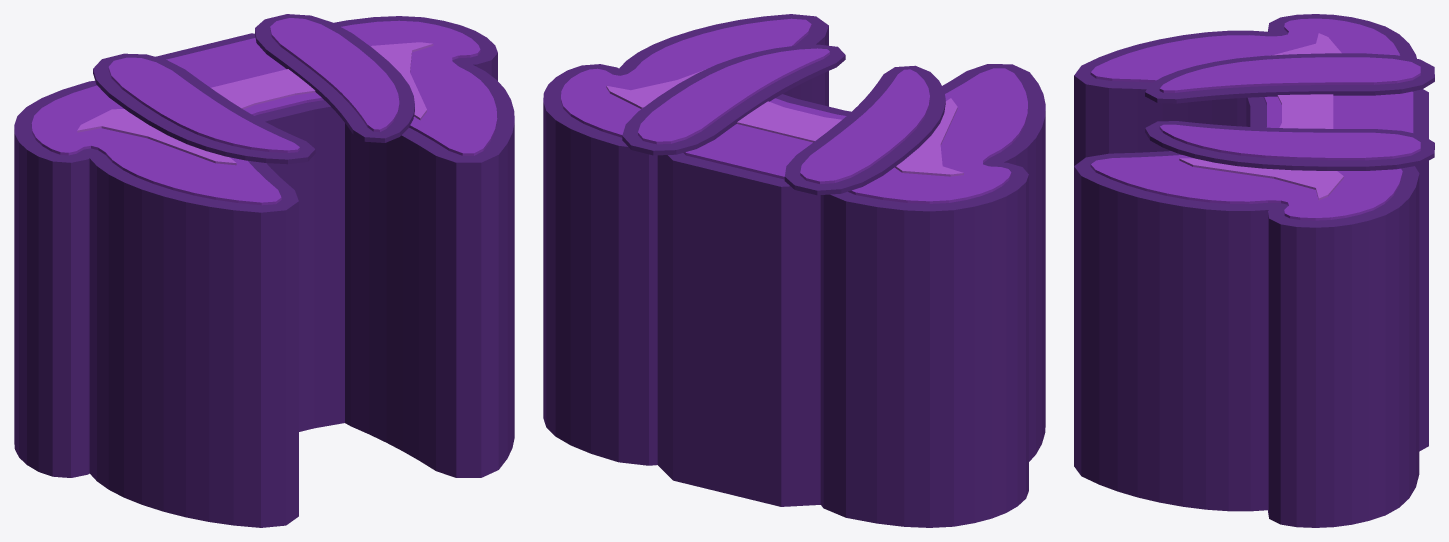
The model's file is bag_garras_ametista.fbx.
3 renders of one model, left to right at view 1: azimuth 30°, elevation 25°; view 2: azimuth 150°, elevation 25°; view 3: azimuth 270°, elevation 25°, orthographic. The views are drawn at different scales.
Visible parts, largest first — view 1: bag_garras_ametista_mochila; view 2: bag_garras_ametista_mochila; view 3: bag_garras_ametista_mochila.
Boxes of the visible parts, x1=… form: bag_garras_ametista_mochila: x1=14, y1=14, x2=514, y2=527; bag_garras_ametista_mochila: x1=543, y1=14, x2=1045, y2=527; bag_garras_ametista_mochila: x1=1074, y1=14, x2=1434, y2=527.
Bounding box in the file's own units: 2.72 × 1.86 × 1.94.
Materials: 1 (1 with a texture image).
